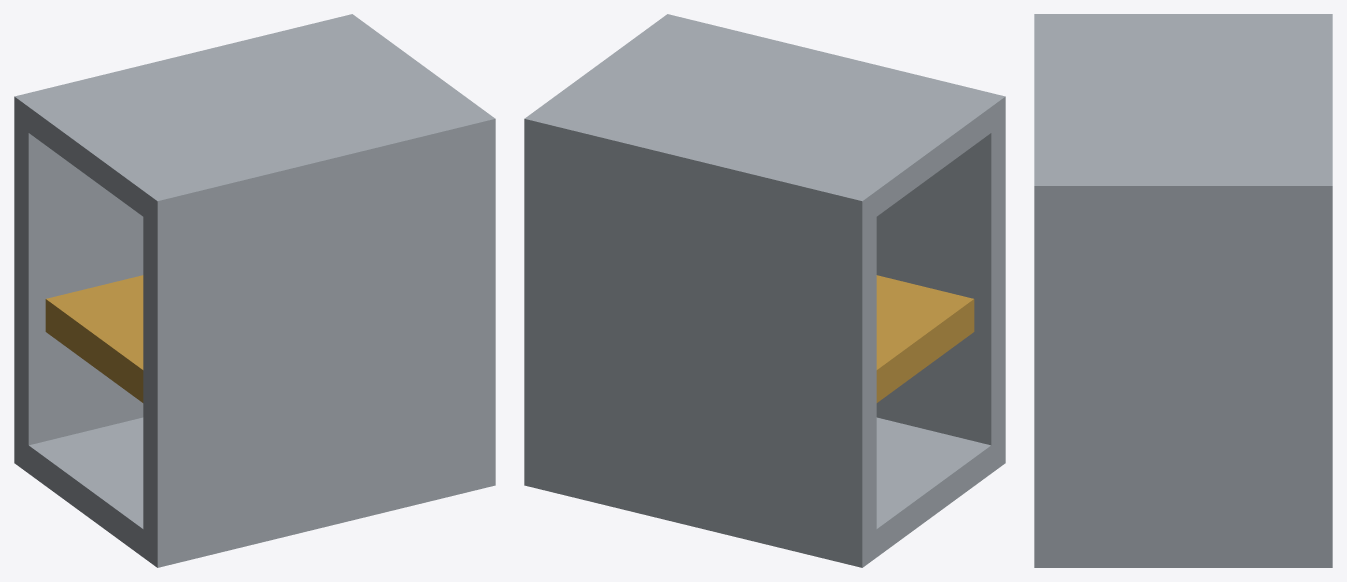
File: L128_REAR_WIFI.fbx
3 views of the same model, side by side, from view 1: azimuth 30°, elevation 25°; view 2: azimuth 150°, elevation 25°; view 3: azimuth 270°, elevation 25° (orthographic). The views are drawn at different scales.
Parts seen in each view (by area): view 1: REAR_WIFI__Steel, REAR_WIFI__Gold; view 2: REAR_WIFI__Steel, REAR_WIFI__Gold; view 3: REAR_WIFI__Steel.
Part boxes in pixels (<box>): REAR_WIFI__Steel: <box>14,14,495,567</box>; REAR_WIFI__Gold: <box>45,275,143,402</box>; REAR_WIFI__Steel: <box>524,14,1005,567</box>; REAR_WIFI__Gold: <box>876,275,974,402</box>; REAR_WIFI__Steel: <box>1034,14,1332,567</box>.
Size of the model in its own units: 15 by 15.55 by 11.
